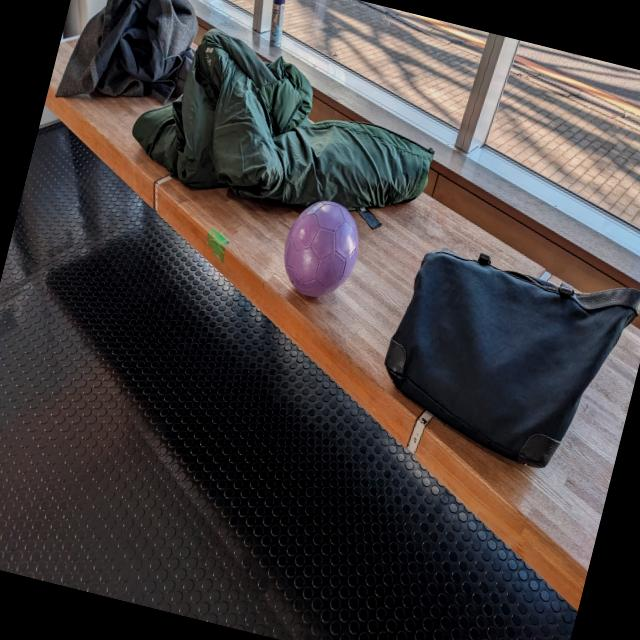purple_ball: (272, 192, 368, 306)
